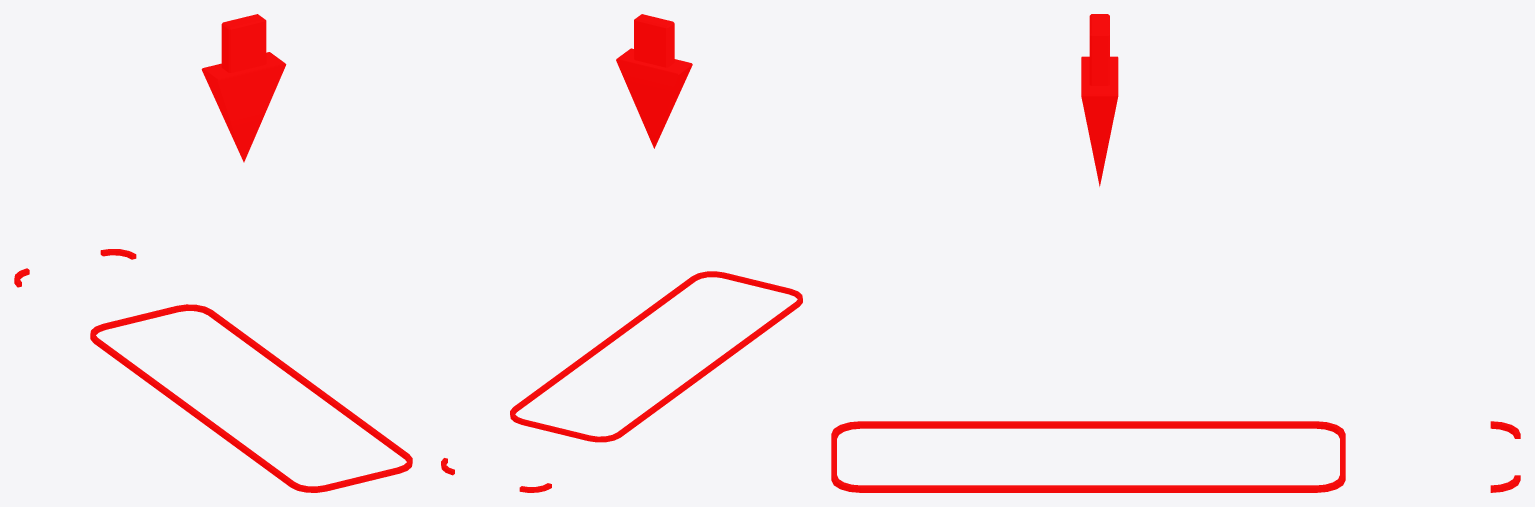
Rendered from park.fbx.
3 views of the same model, side by side, from view 1: azimuth 30°, elevation 25°; view 2: azimuth 150°, elevation 25°; view 3: azimuth 270°, elevation 25° (orthographic). The views are drawn at different scales.
Visible parts, largest first — view 1: Arrow, ParkSpot; view 2: Arrow, ParkSpot; view 3: ParkSpot, Arrow.
Boxes of the visible parts, box(x1,y1,x2,y2) form: Arrow: box(201, 14, 286, 162); ParkSpot: box(14, 249, 412, 492); Arrow: box(616, 14, 692, 148); ParkSpot: box(441, 271, 802, 492); ParkSpot: box(831, 421, 1520, 492); Arrow: box(1081, 14, 1118, 186).
Bounding box in the file's own units: 431 × 1311 × 1885.
